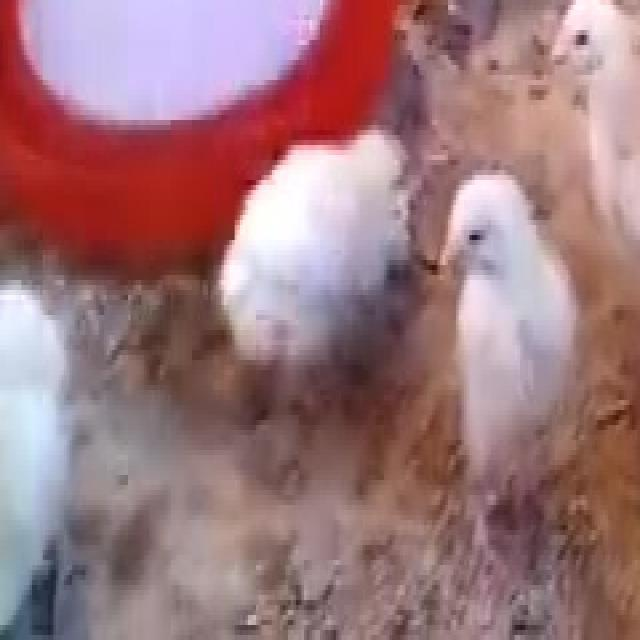poussin: (211, 129, 419, 380), (439, 166, 577, 501), (0, 277, 87, 640), (535, 0, 640, 252)
